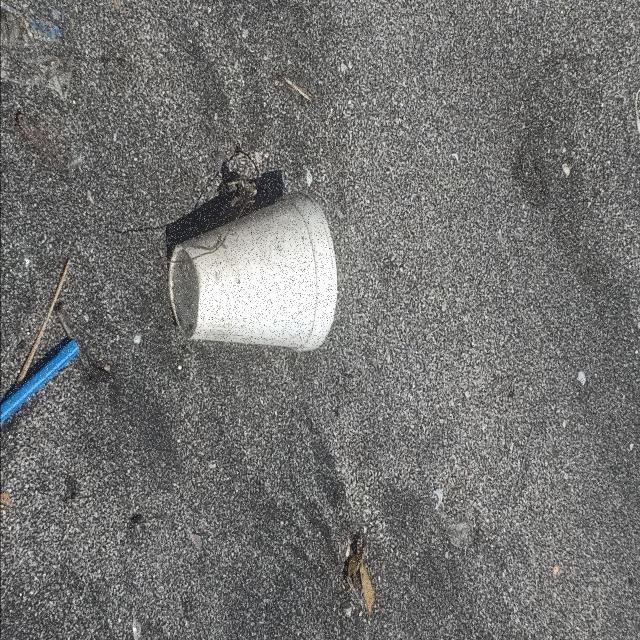styrofoam_waste: (172, 195, 337, 352)
